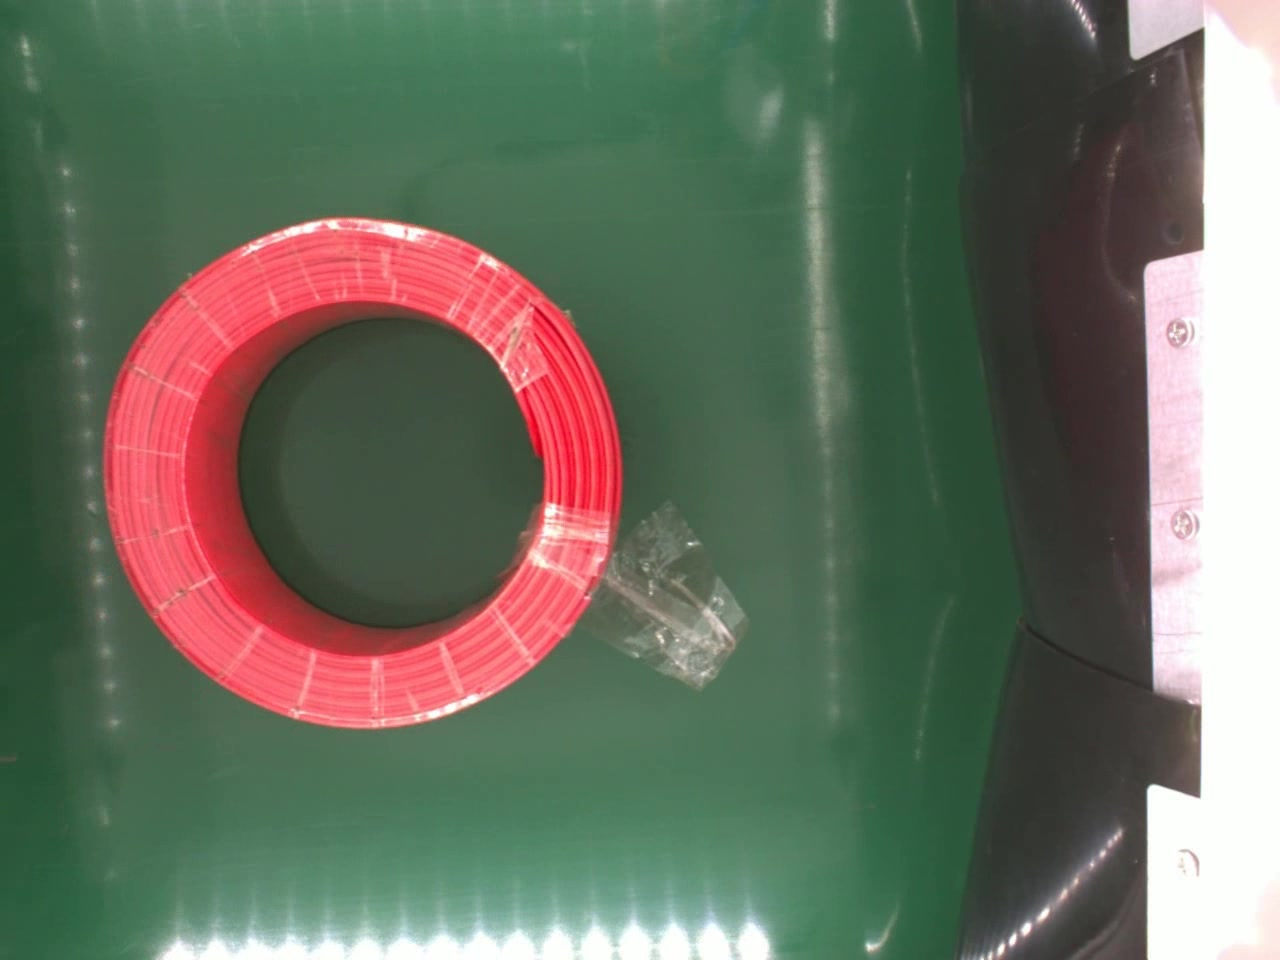red: (98, 214, 622, 727)
